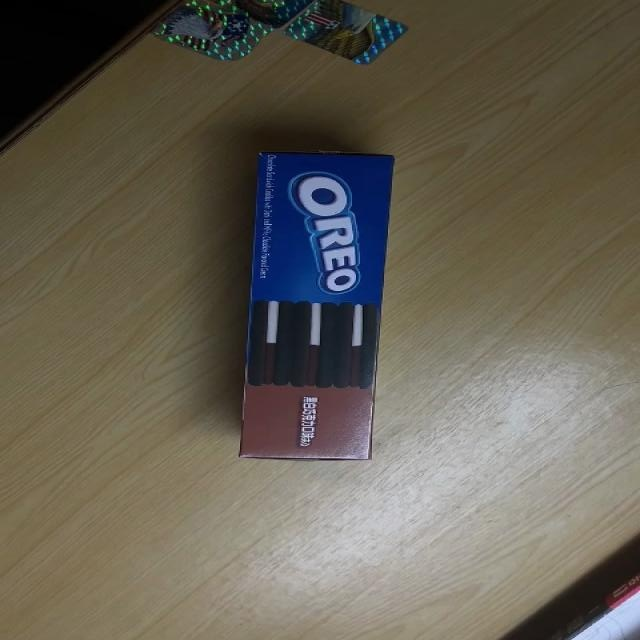Oreo: (237, 150, 397, 463)
